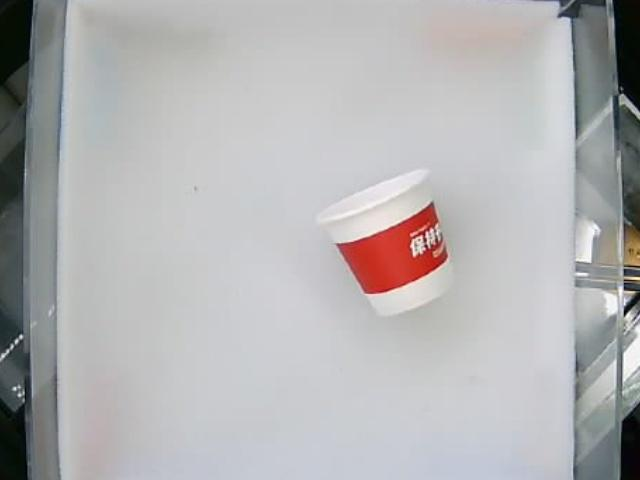Cup: (322, 165, 455, 320)
